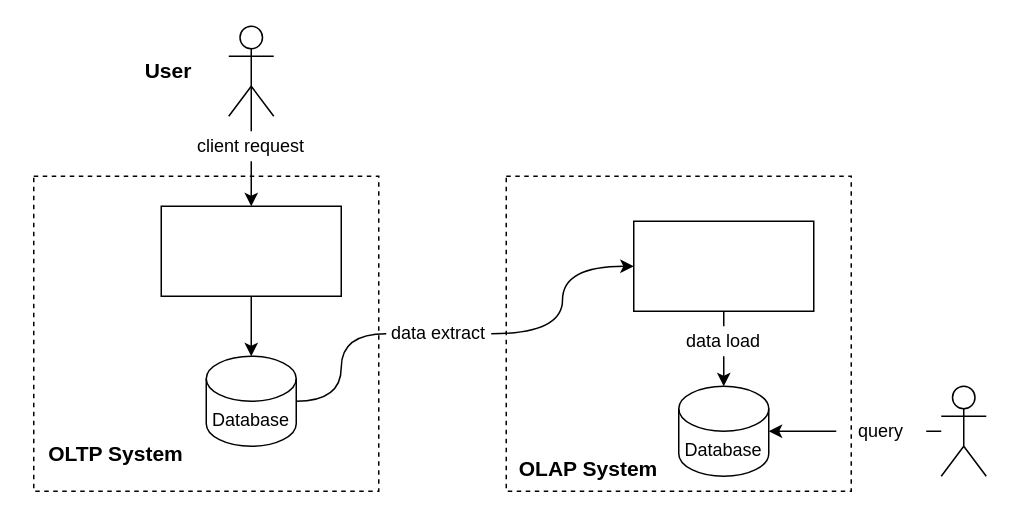
The diagram is 1013 pixels wide and 530 high, and some of its shapes have lost their labels. The shapes that lost their labels are listed below. From the top down, each one's box as (x1, y1, x2, y2) in pixels, then its label:
(160, 205, 341, 296): Application
(632, 220, 814, 311): Data Transform
